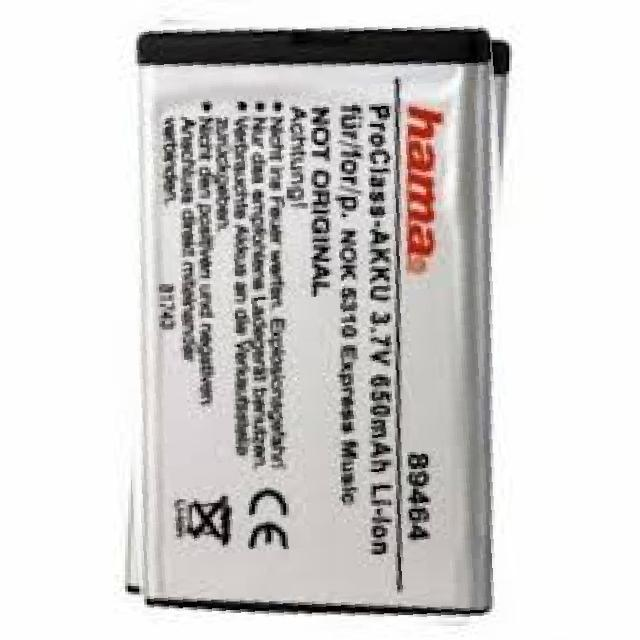Battery: (137, 31, 491, 610)
